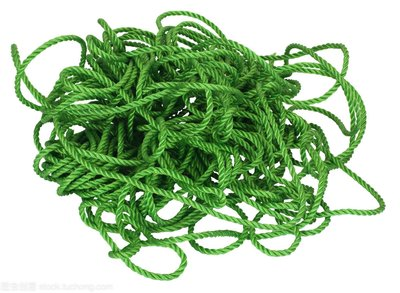9/可回收垃圾/绳子: (10, 10, 386, 280)
